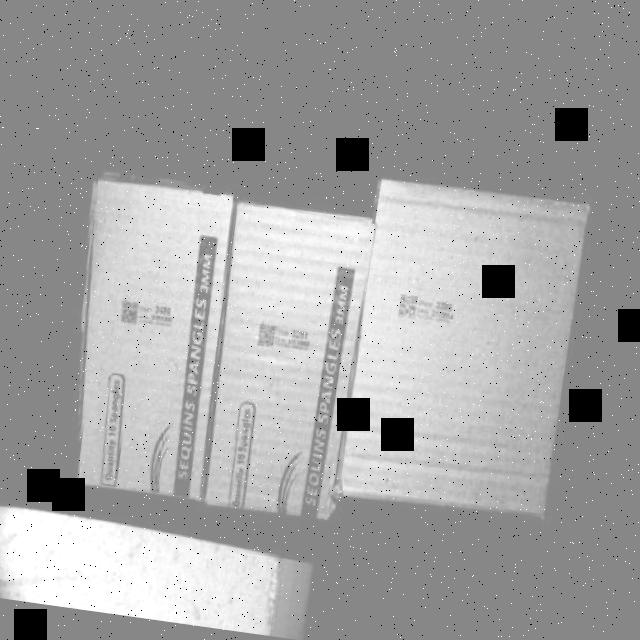box: (342, 180, 596, 516), (55, 184, 241, 503), (200, 206, 374, 521)
